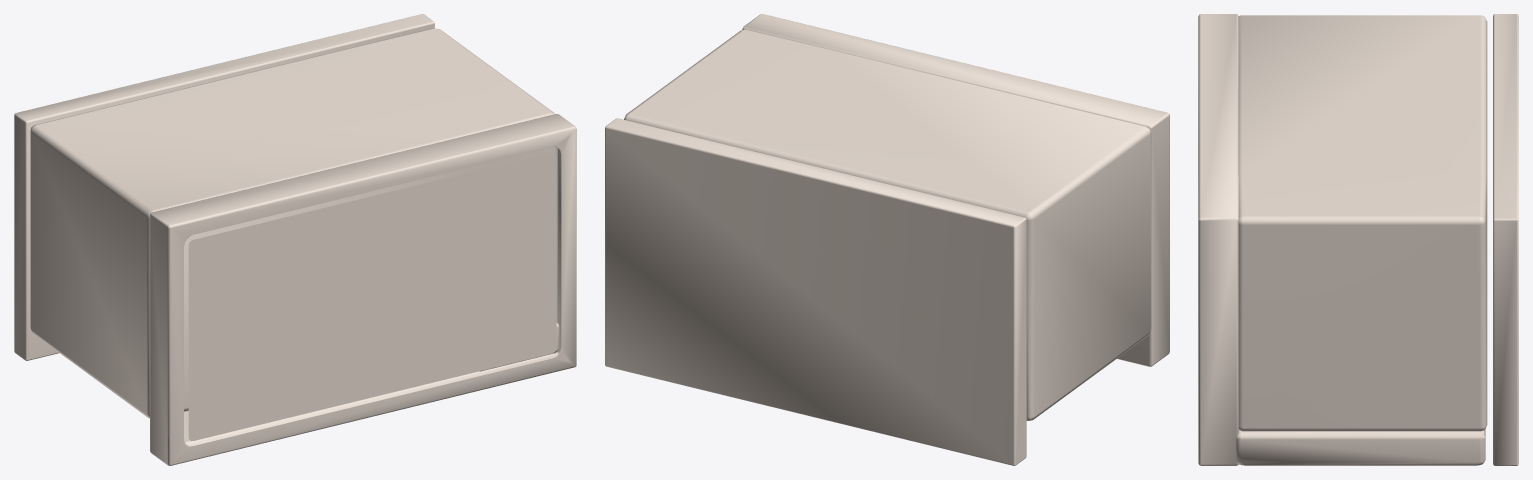
File: BodymeshMicrowaveC2_0_GeomSubset_0.obj
The picture shows the model from 3 angles, left to right: view 1: azimuth 30°, elevation 25°; view 2: azimuth 150°, elevation 25°; view 3: azimuth 270°, elevation 25°; orthographic projection. The views are drawn at different scales.
Parts seen in each view (by area): view 1: BodymeshMicrowaveC2_0_GeomSubset_0; view 2: BodymeshMicrowaveC2_0_GeomSubset_0; view 3: BodymeshMicrowaveC2_0_GeomSubset_0.
Boxes of the visible parts, x1,y1,x2,y2 form: BodymeshMicrowaveC2_0_GeomSubset_0: (14,14,576,465); BodymeshMicrowaveC2_0_GeomSubset_0: (605,14,1169,465); BodymeshMicrowaveC2_0_GeomSubset_0: (1198,14,1518,465).
Size of the model in its own units: 0.6079 by 0.3399 by 0.3969.
Materials: 1 (1 with a texture image).
